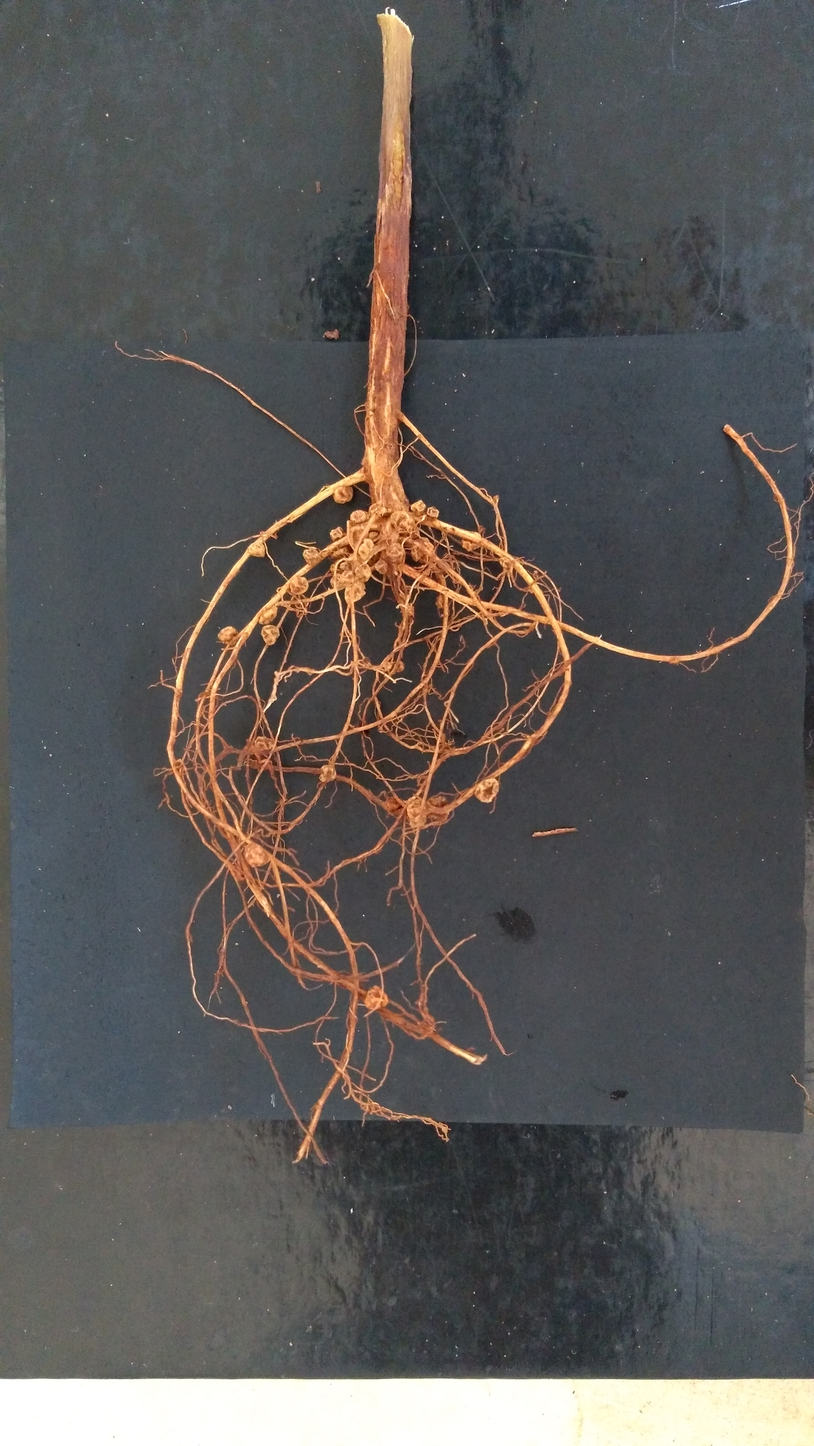nodule: (347, 520, 400, 555), (243, 843, 272, 868), (364, 985, 388, 1011), (426, 796, 448, 824), (474, 778, 499, 802), (390, 510, 416, 533), (411, 537, 434, 562), (407, 799, 426, 828), (385, 543, 405, 567), (344, 582, 366, 603), (358, 538, 375, 562), (462, 531, 482, 551), (286, 577, 308, 595), (261, 625, 280, 645), (259, 605, 278, 625), (218, 627, 239, 645), (369, 501, 391, 516), (333, 487, 353, 503), (254, 736, 275, 751), (355, 564, 371, 583), (319, 765, 336, 782), (303, 549, 321, 565), (248, 542, 265, 558), (385, 796, 403, 811), (235, 861, 248, 881), (340, 569, 354, 587), (330, 545, 348, 559), (331, 560, 351, 572), (330, 573, 344, 590), (384, 661, 405, 672), (400, 527, 419, 539), (411, 500, 426, 515), (375, 559, 388, 575), (330, 527, 344, 541), (350, 510, 365, 523), (499, 556, 512, 570), (427, 506, 439, 518), (367, 531, 379, 541), (435, 595, 444, 608), (405, 603, 414, 615), (398, 592, 408, 600)
